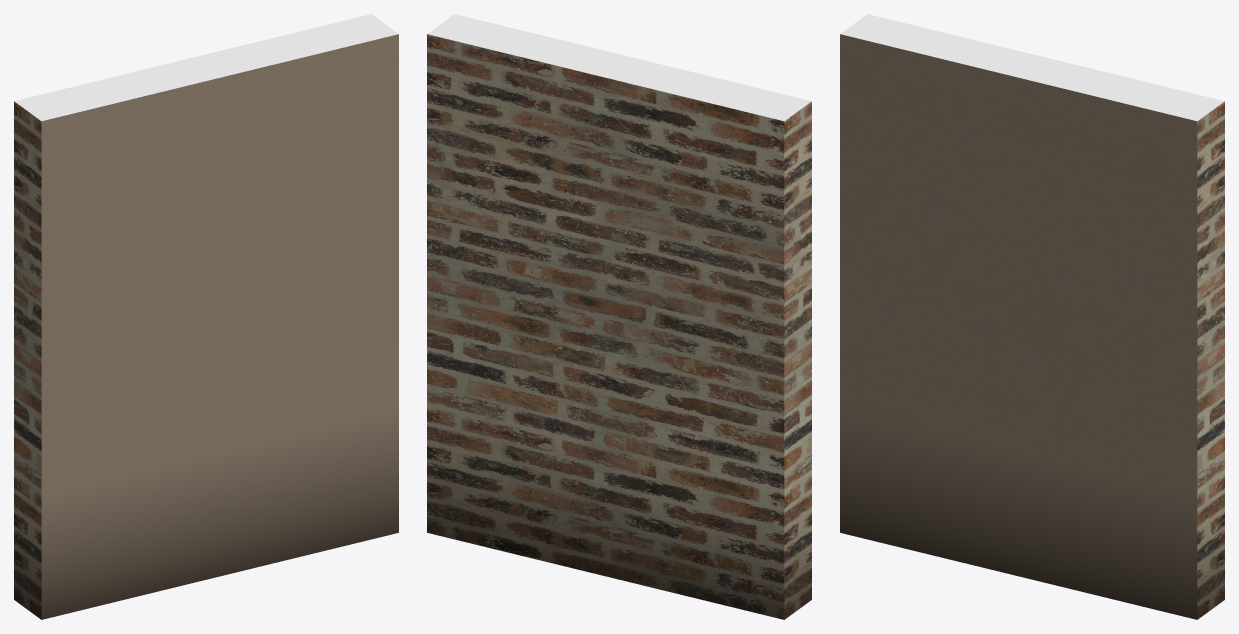
Rendered from wall_straight.glb.
3 views of the same model, side by side, from view 1: azimuth 30°, elevation 25°; view 2: azimuth 150°, elevation 25°; view 3: azimuth 330°, elevation 25° (orthographic).
Visible parts, largest first — view 1: wall_straight-col; view 2: wall_straight-col; view 3: wall_straight-col.
Part boxes in pixels (bbox=[...]): wall_straight-col: bbox=[14, 14, 398, 619]; wall_straight-col: bbox=[427, 14, 811, 619]; wall_straight-col: bbox=[840, 14, 1224, 619].
Size of the model in its own units: 1.5 by 2 by 0.2.
3 materials, 2 textured.
